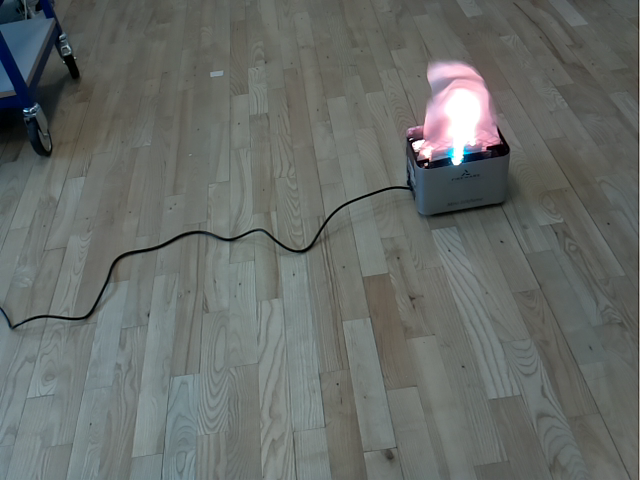fire: (412, 61, 502, 162)
